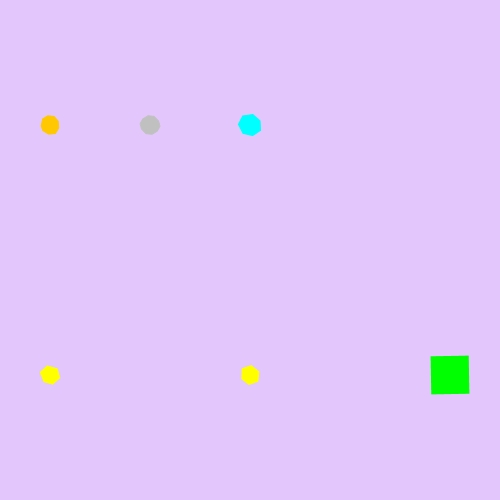decagon: (135, 111, 165, 139)
heptagon: (234, 110, 266, 141)
hexagon: (35, 362, 65, 388), (235, 362, 265, 388)
nonagon: (36, 111, 65, 139)
quadrilateral: (420, 345, 480, 405)
